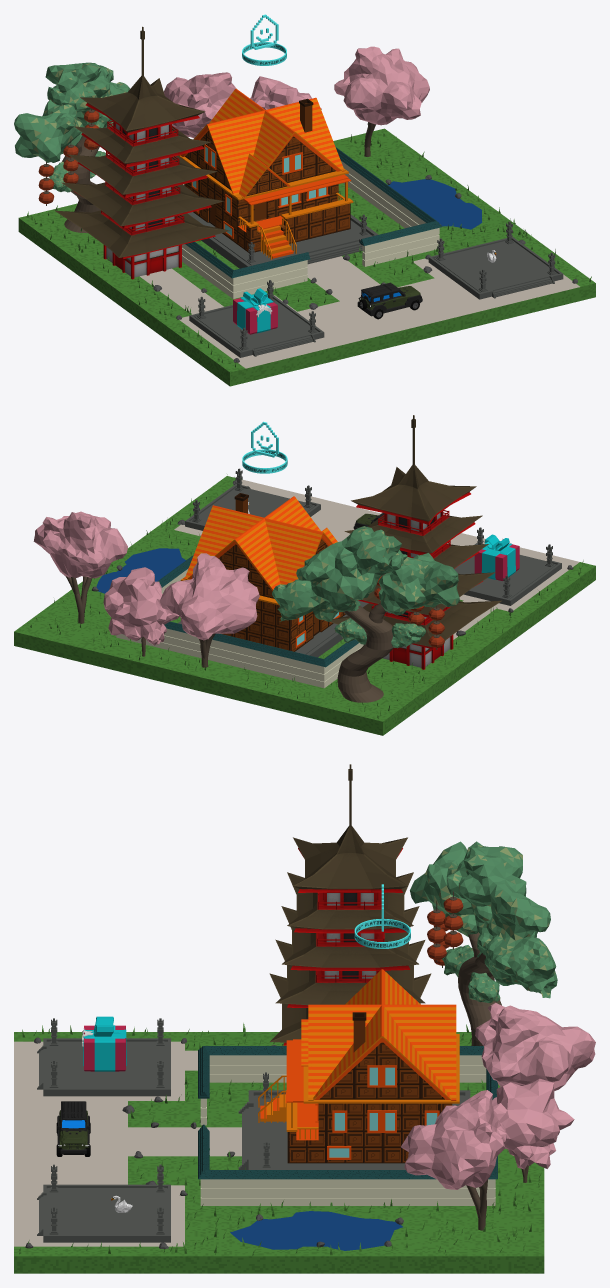
3 views of the same model, one above another, from view 1: azimuth 30°, elevation 25°; view 2: azimuth 150°, elevation 25°; view 3: azimuth 270°, elevation 25° (orthographic). The views are drawn at different scales.
Parts seen in each view (by area): view 1: Cube.005, Cube, OBJRANDOM_GIANT_PRESENT, VEHICLES_JEEP, TYPE_PREMIUM; view 2: Cube.005, Cube, OBJRANDOM_GIANT_PRESENT, TYPE_PREMIUM; view 3: Cube.005, Cube, OBJRANDOM_GIANT_PRESENT, VEHICLES_JEEP, TYPE_PREMIUM.
Part boxes in pixels (box(x1,y1,x2,y2)): Cube.005: box(14, 26, 595, 386); Cube: box(178, 88, 353, 259); OBJRANDOM_GIANT_PRESENT: box(233, 288, 277, 334); VEHICLES_JEEP: box(357, 282, 422, 319); TYPE_PREMIUM: box(242, 14, 286, 65); Cube.005: box(14, 415, 595, 735); Cube: box(180, 493, 345, 651); OBJRANDOM_GIANT_PRESENT: box(474, 534, 519, 580); TYPE_PREMIUM: box(242, 421, 287, 473); Cube.005: box(14, 764, 595, 1273); Cube: box(258, 969, 459, 1163); OBJRANDOM_GIANT_PRESENT: box(82, 1016, 126, 1071); VEHICLES_JEEP: box(56, 1101, 90, 1156); TYPE_PREMIUM: box(354, 884, 410, 948).
Size of the model in its own units: 4528 by 2690 by 4389.
Materials: 43 (7 with a texture image).
